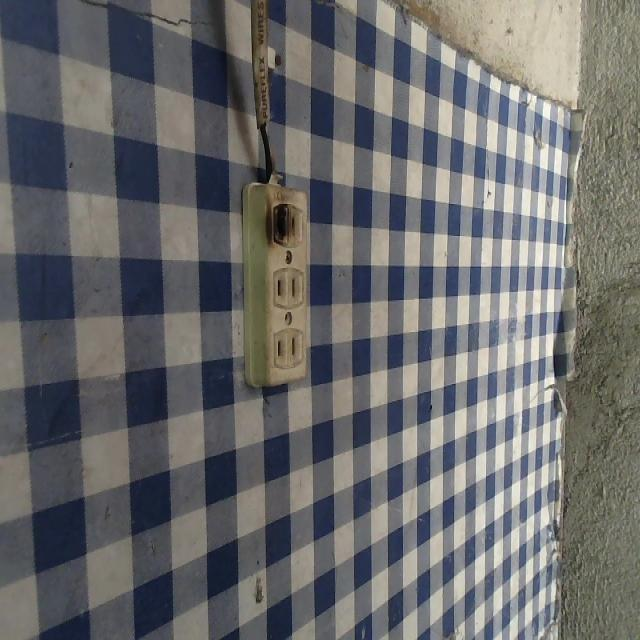-: (266, 198, 293, 246)
